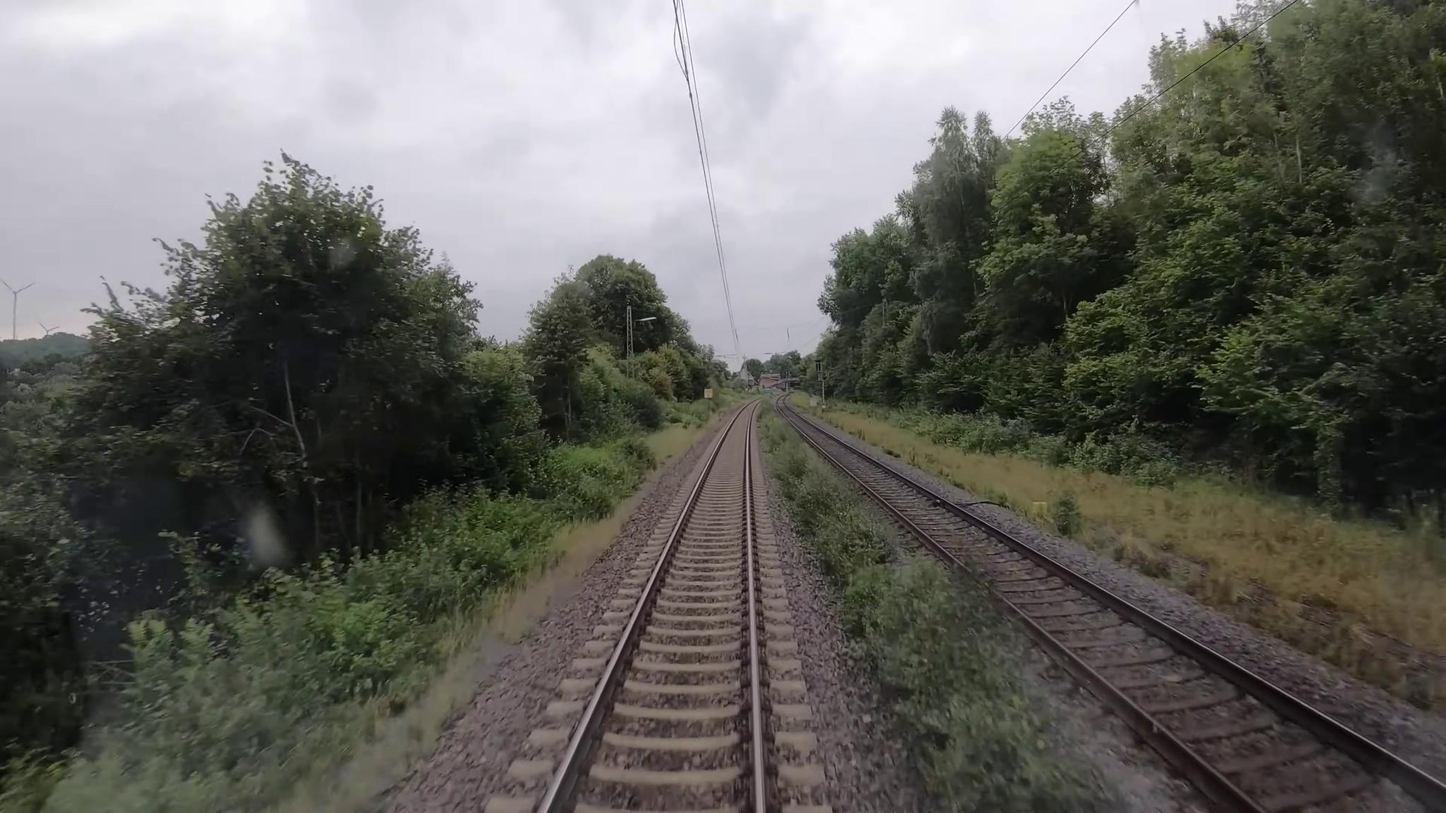Plant: (755, 391, 1160, 813)
